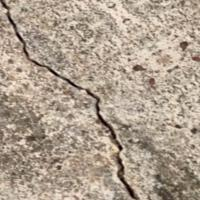crack: (1, 2, 141, 199)
